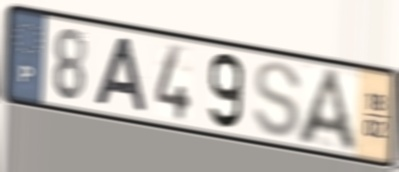4: (154, 41, 194, 123)
8: (51, 26, 89, 103)
9: (207, 52, 245, 131)
A: (294, 65, 362, 156), (91, 34, 149, 116)
S: (251, 58, 305, 140)
